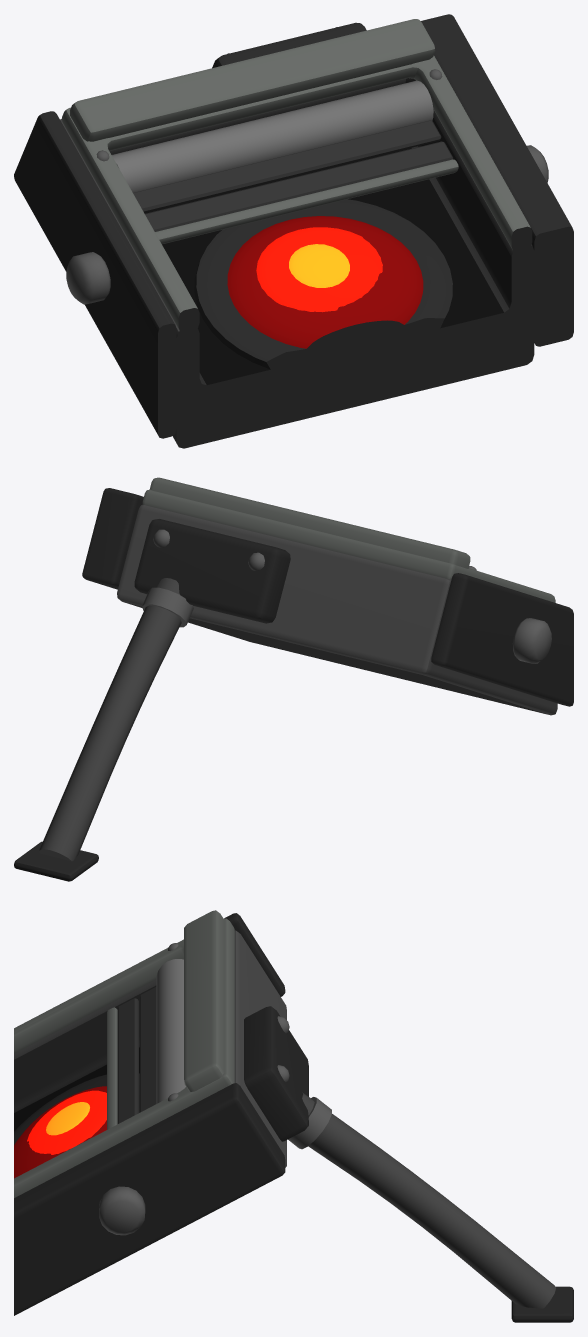
File: cliff_bunker_top_159.glb
The picture shows the model from 3 angles, top to bottom: view 1: azimuth 30°, elevation 25°; view 2: azimuth 150°, elevation 25°; view 3: azimuth 270°, elevation 25°; orthographic projection. The views are drawn at different scales.
Parts seen in each view (by area): view 1: box.001, bracket0.001, brow.001, frame.001, roll.001, bracket1.001, eye.001, eye_socket.001, slat1.001, slat0.001, eye_mid.001, lip.001 (+3 smaller); view 2: box.001, bracket0.001, strut.001, mount.001, frame.001, brow.001, bracket1.001, strut_foot.001, knob0.001, strut_collar.001; view 3: bracket1.001, strut.001, box.001, frame.001, brow.001, mount.001, roll.001, slat0.001, eye_mid.001, slat1.001, knob1.001, strut_foot.001 (+6 smaller).
Boxes of the visible parts, left/top/right/bottom form: box.001: left=60, top=78, right=534, bottom=448; bracket0.001: left=14, top=111, right=176, bottom=438; brow.001: left=70, top=19, right=435, bottom=141; frame.001: left=62, top=55, right=532, bottom=332; roll.001: left=111, top=80, right=433, bottom=192; bracket1.001: left=421, top=14, right=573, bottom=346; eye.001: left=227, top=216, right=423, bottom=358; eye_socket.001: left=194, top=199, right=452, bottom=371; slat1.001: left=133, top=120, right=441, bottom=212; slat0.001: left=145, top=141, right=453, bottom=231; eye_mid.001: left=256, top=227, right=382, bottom=312; lip.001: left=155, top=159, right=458, bottom=244; box.001: left=117, top=504, right=557, bottom=715; bracket0.001: left=431, top=573, right=573, bottom=706; strut.001: left=39, top=578, right=181, bottom=861; mount.001: left=134, top=519, right=290, bottom=623; frame.001: left=142, top=489, right=555, bottom=602; brow.001: left=149, top=477, right=470, bottom=568; bracket1.001: left=82, top=488, right=143, bottom=589; strut_foot.001: left=14, top=841, right=98, bottom=881; knob0.001: left=512, top=618, right=551, bottom=663; strut_collar.001: left=142, top=587, right=193, bottom=627; bracket1.001: left=14, top=1083, right=285, bottom=1315; strut.001: left=302, top=1092, right=555, bottom=1308; box.001: left=14, top=930, right=286, bottom=1167; frame.001: left=14, top=918, right=234, bottom=1197; brow.001: left=184, top=910, right=224, bottom=1091; mount.001: left=244, top=1006, right=308, bottom=1141; roll.001: left=156, top=959, right=185, bottom=1103; slat0.001: left=117, top=998, right=138, bottom=1123; eye_mid.001: left=27, top=1090, right=106, bottom=1154; slat1.001: left=140, top=987, right=156, bottom=1112; knob1.001: left=99, top=1186, right=145, bottom=1235; strut_foot.001: left=511, top=1286, right=573, bottom=1322.
Bounding box in the file's own units: 22.5 × 13.62 × 25.2.
